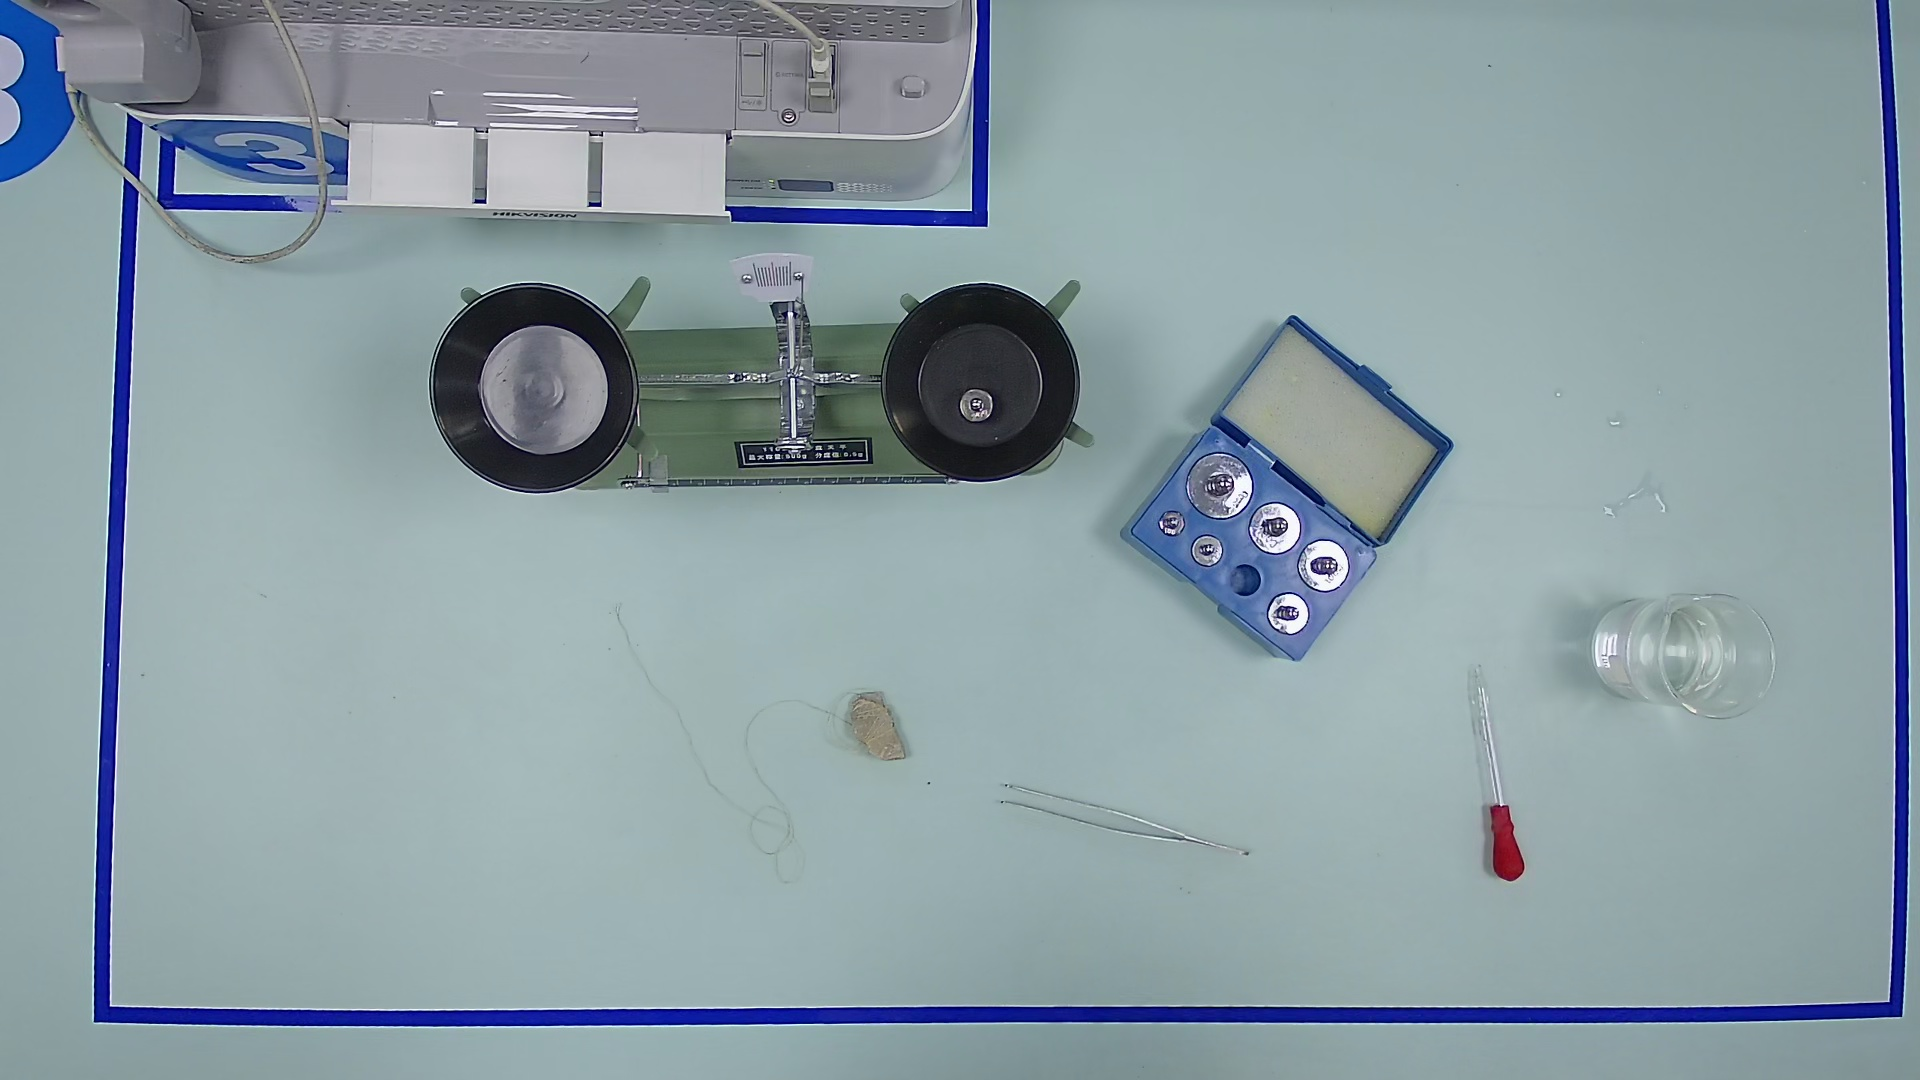bei: (1589, 574, 1775, 731)
diguan: (1440, 647, 1542, 891)
fama: (1185, 450, 1253, 520), (1247, 501, 1302, 556), (1298, 535, 1350, 591), (1266, 593, 1311, 638), (957, 388, 996, 426), (1191, 533, 1222, 568), (1156, 508, 1188, 541)
gan: (609, 444, 947, 520)
he: (1109, 419, 1408, 678)
niezi: (986, 785, 1257, 862)
pointer: (735, 249, 812, 301)
shi: (833, 684, 922, 771)
tuo: (858, 260, 1106, 509), (411, 266, 659, 514)
you: (641, 451, 676, 500)
